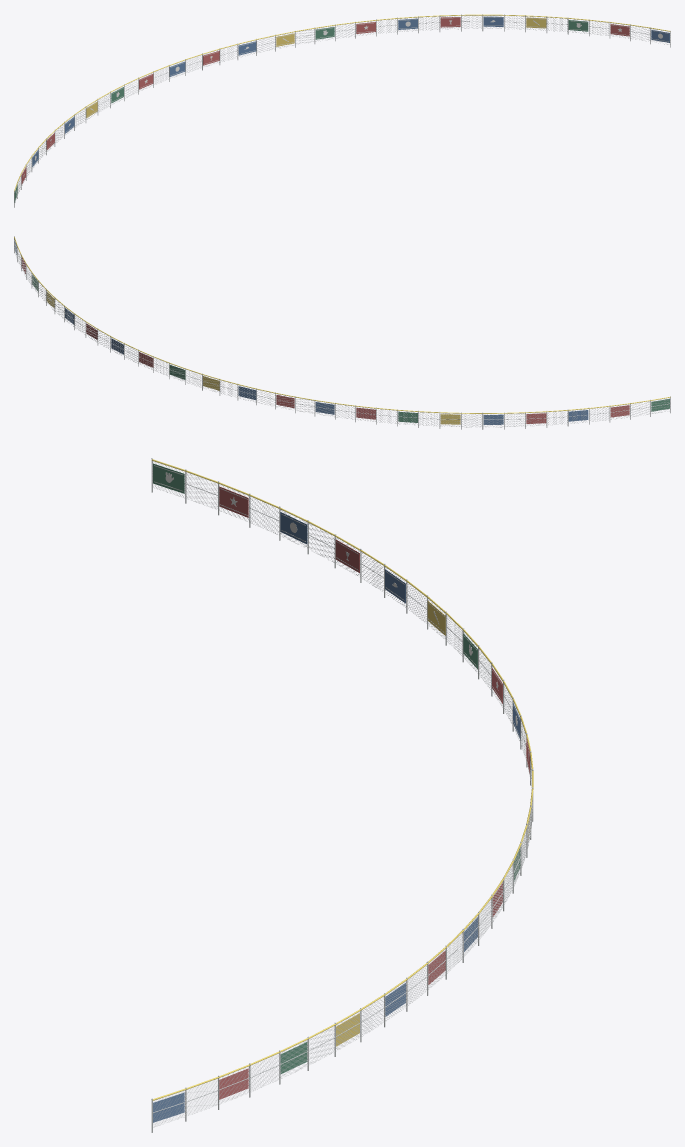
The model's file is outfield_fence.glb.
3 renders of one model, top to bottom at view 1: azimuth 30°, elevation 25°; view 2: azimuth 150°, elevation 25°; view 3: azimuth 270°, elevation 25°, orthographic. The views are drawn at different scales.
Parts seen in each view (by area): view 1: outfield_fence_galv, outfield_fence_pad_b, outfield_fence_pad_r, outfield_fence_paint_y, outfield_fence_flag_w, outfield_fence_pad_g, outfield_fence_pad_y; view 2: outfield_fence_galv, outfield_fence_pad_r, outfield_fence_pad_b, outfield_fence_paint_y, outfield_fence_pad_g, outfield_fence_pad_y; view 3: outfield_fence_galv, outfield_fence_pad_r, outfield_fence_pad_b, outfield_fence_paint_y, outfield_fence_pad_g.
Boxes of the visible parts, left/top/right/bottom form: outfield_fence_galv: left=14, top=14, right=670, bottom=207; outfield_fence_pad_b: left=32, top=16, right=669, bottom=166; outfield_fence_pad_r: left=21, top=17, right=629, bottom=184; outfield_fence_paint_y: left=14, top=14, right=670, bottom=191; outfield_fence_flag_w: left=15, top=17, right=668, bottom=200; outfield_fence_pad_g: left=14, top=20, right=588, bottom=202; outfield_fence_pad_y: left=86, top=17, right=546, bottom=117; outfield_fence_galv: left=14, top=236, right=670, bottom=429; outfield_fence_pad_r: left=21, top=258, right=629, bottom=423; outfield_fence_pad_b: left=14, top=242, right=588, bottom=424; outfield_fence_paint_y: left=14, top=237, right=670, bottom=413; outfield_fence_pad_g: left=32, top=274, right=669, bottom=422; outfield_fence_pad_y: left=46, top=292, right=460, bottom=424; outfield_fence_galv: left=151, top=458, right=533, bottom=1132; outfield_fence_pad_r: left=219, top=486, right=529, bottom=1099; outfield_fence_pad_b: left=153, top=512, right=520, bottom=1122; outfield_fence_paint_y: left=151, top=459, right=533, bottom=1100; outfield_fence_pad_g: left=153, top=463, right=520, bottom=1073.
Size of the model in its own units: 88.36 by 2.2 by 22.26.
